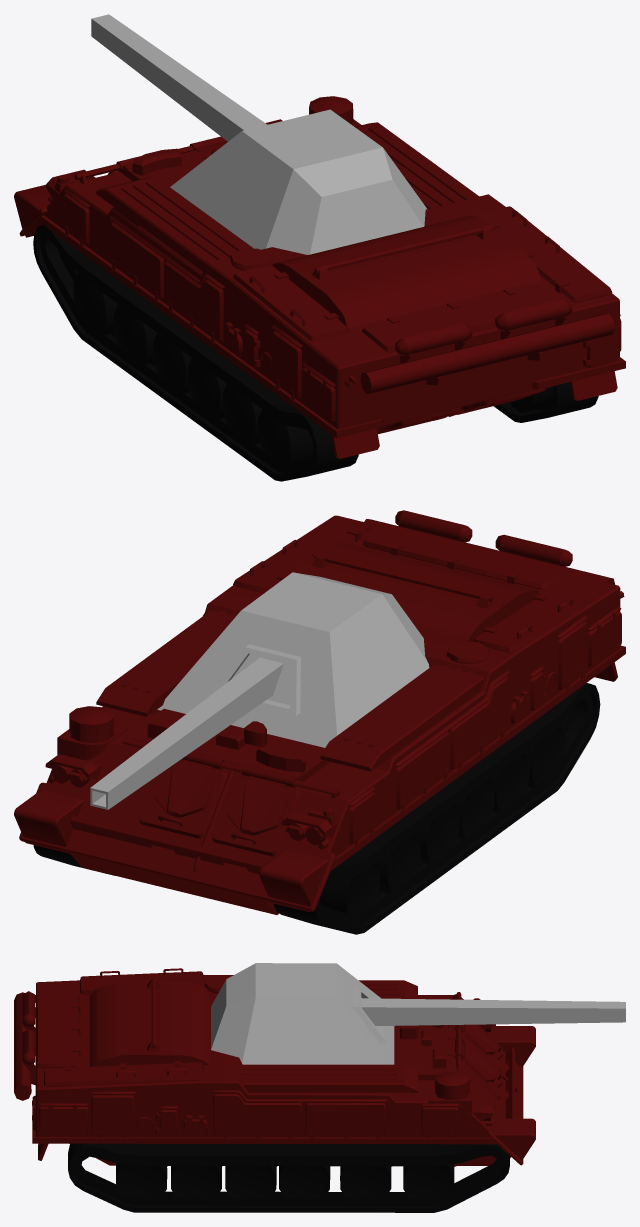
File: EnemyTank1_FBX.fbx
3 views of the same model, one above another, from view 1: azimuth 30°, elevation 25°; view 2: azimuth 150°, elevation 25°; view 3: azimuth 270°, elevation 25° (orthographic). The views are drawn at different scales.
Parts seen in each view (by area): view 1: Center, Top, Bottom; view 2: Center, Top, Bottom; view 3: Center, Bottom, Top.
Boxes of the visible parts, left/top/right/bottom form: Center: left=14, top=96, right=625, bottom=458; Top: left=91, top=14, right=427, bottom=254; Bottom: left=33, top=224, right=598, bottom=481; Center: left=14, top=510, right=625, bottom=914; Top: left=90, top=572, right=429, bottom=809; Bottom: left=33, top=683, right=600, bottom=934; Center: left=14, top=968, right=535, bottom=1166; Bottom: left=68, top=1143, right=509, bottom=1212; Top: left=211, top=963, right=625, bottom=1064.
Bounding box in the file's own units: 16.92 × 12.66 × 39.14.
